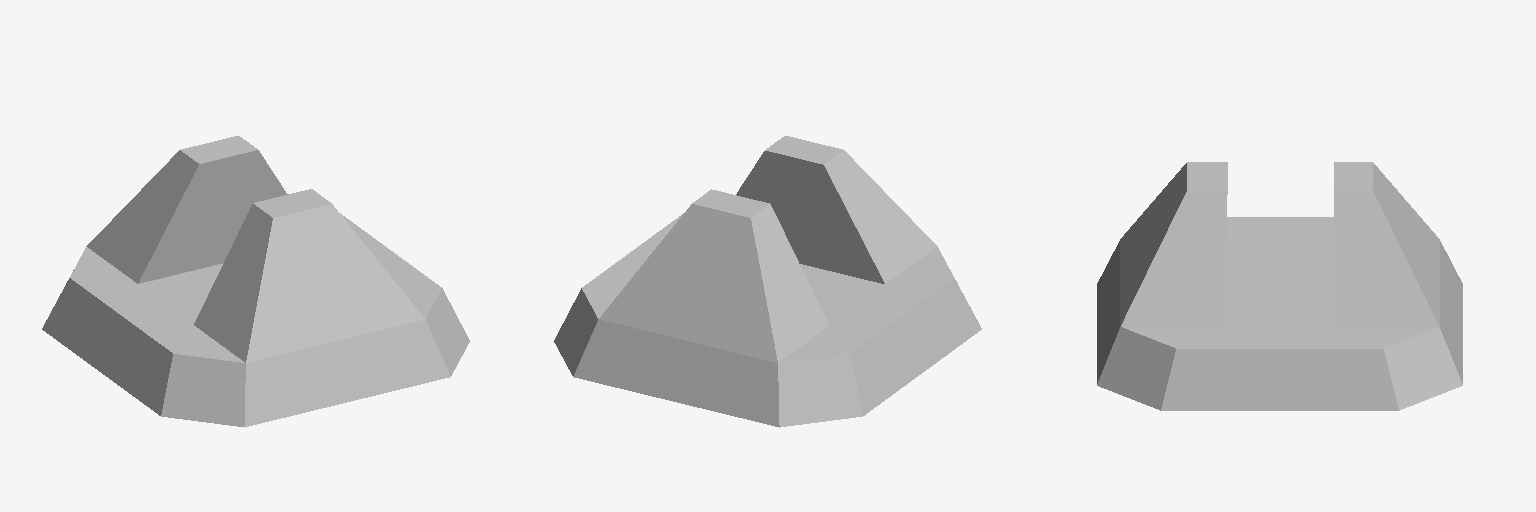
Rendered from tower_pivot.obj.
3 views of the same model, side by side, from view 1: azimuth 30°, elevation 25°; view 2: azimuth 150°, elevation 25°; view 3: azimuth 270°, elevation 25° (orthographic).
Visible parts, largest first — view 1: Cube.001; view 2: Cube.001; view 3: Cube.001.
Boxes of the visible parts, x1=… form: Cube.001: x1=42, y1=136, x2=469, y2=427; Cube.001: x1=554, y1=136, x2=981, y2=427; Cube.001: x1=1097, y1=162, x2=1462, y2=410.
Bounding box in the file's own units: 7.08 × 3.47 × 7.27.